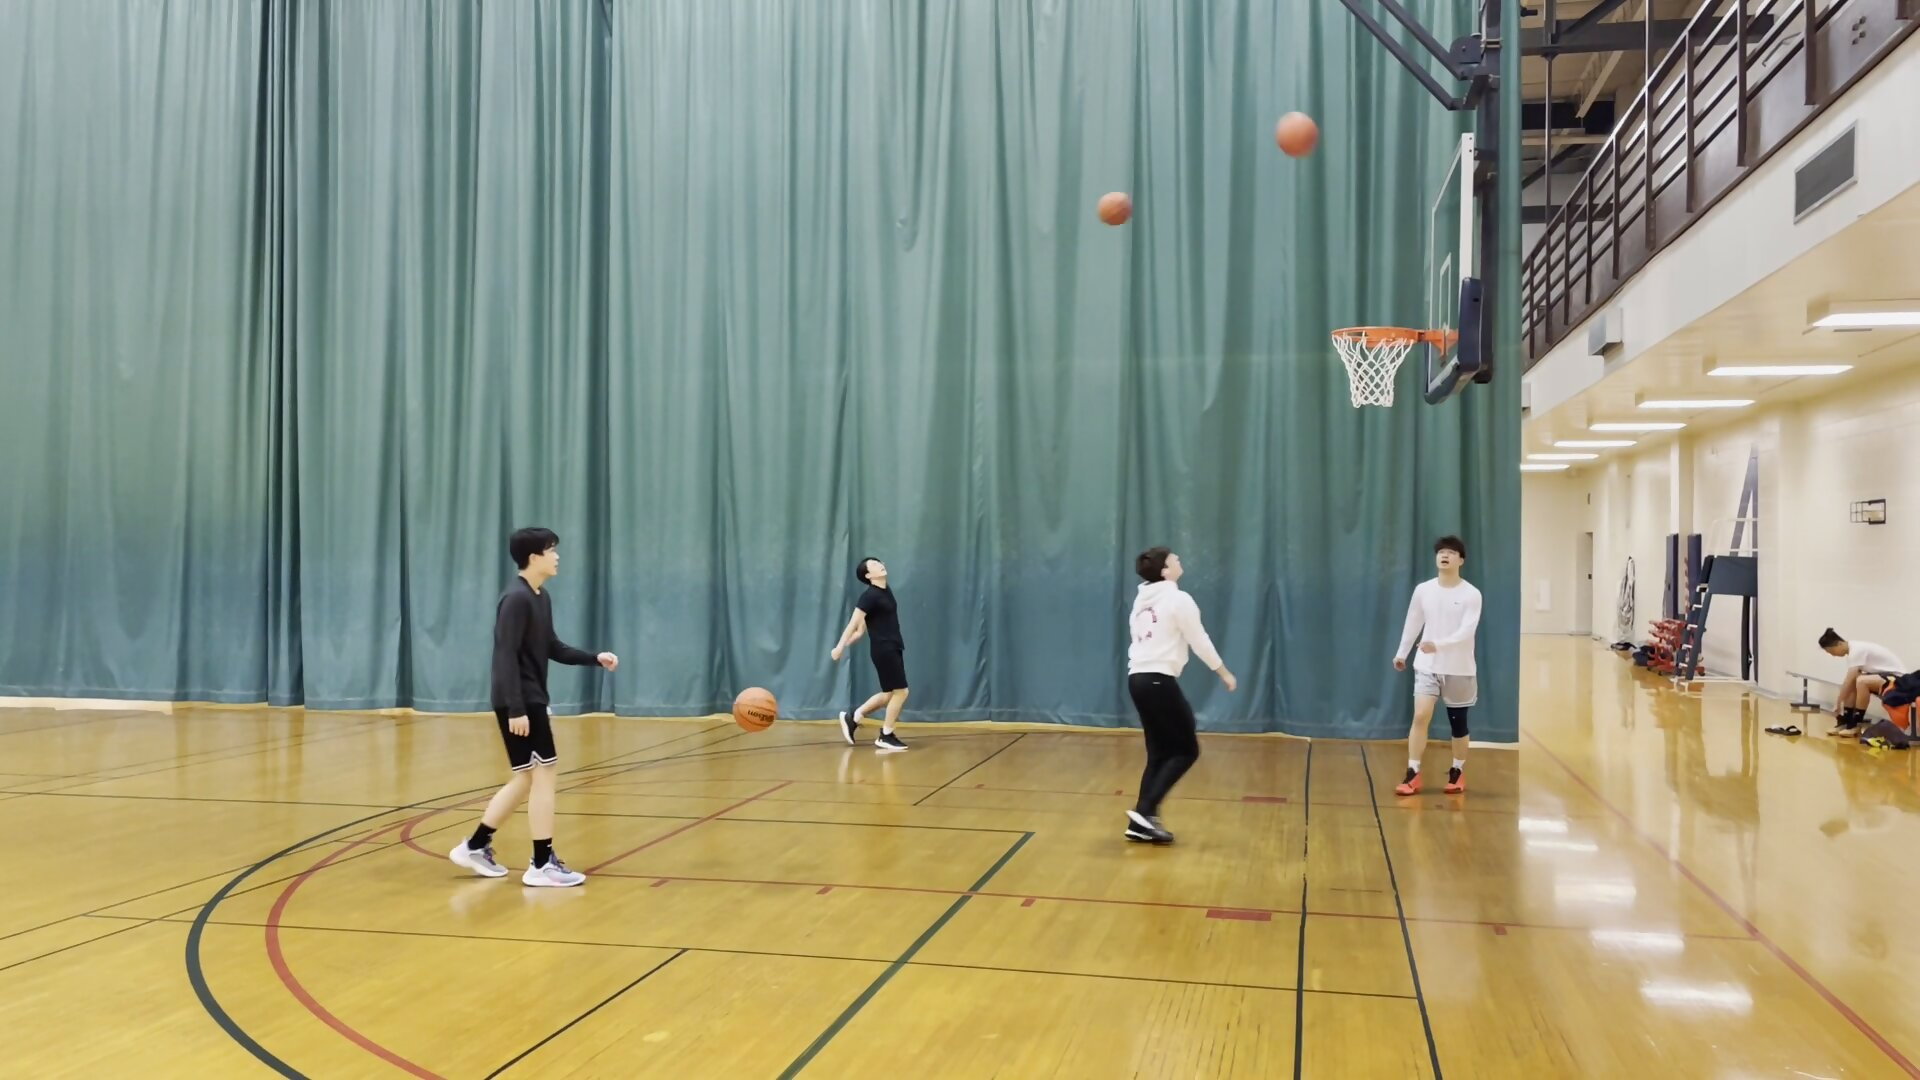ball: (1272, 108, 1319, 163), (733, 682, 779, 736), (1092, 188, 1135, 230)
player: (468, 526, 593, 889), (1120, 545, 1226, 854), (1397, 534, 1474, 801), (833, 554, 915, 751), (1816, 627, 1908, 744), (1340, 379, 1402, 412)
rim: (1325, 322, 1422, 353)
